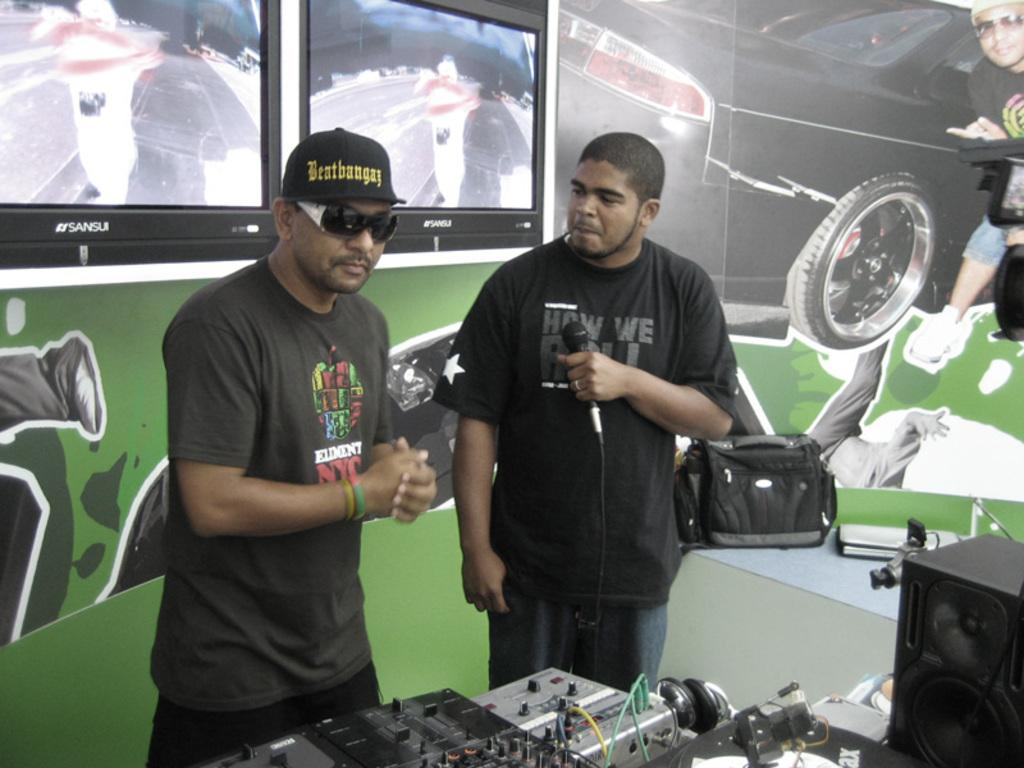Luggage-and-bags: (669, 433, 841, 552)
